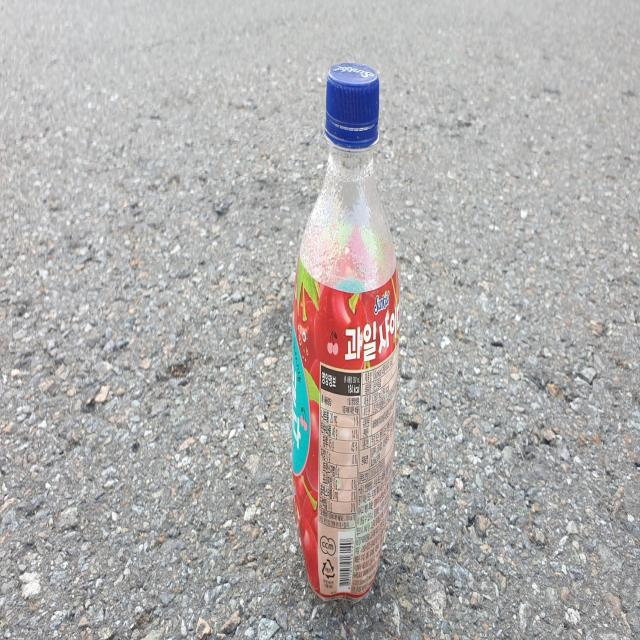plastic: (292, 62, 400, 598)
